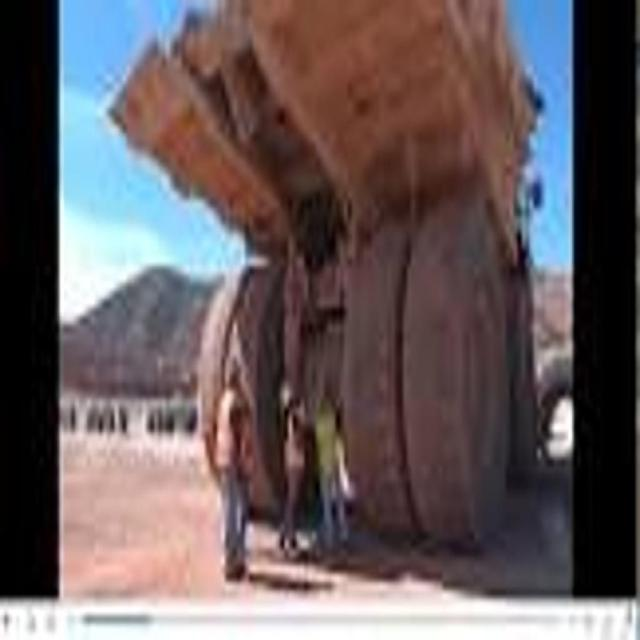dump_truck: (107, 3, 546, 589)
